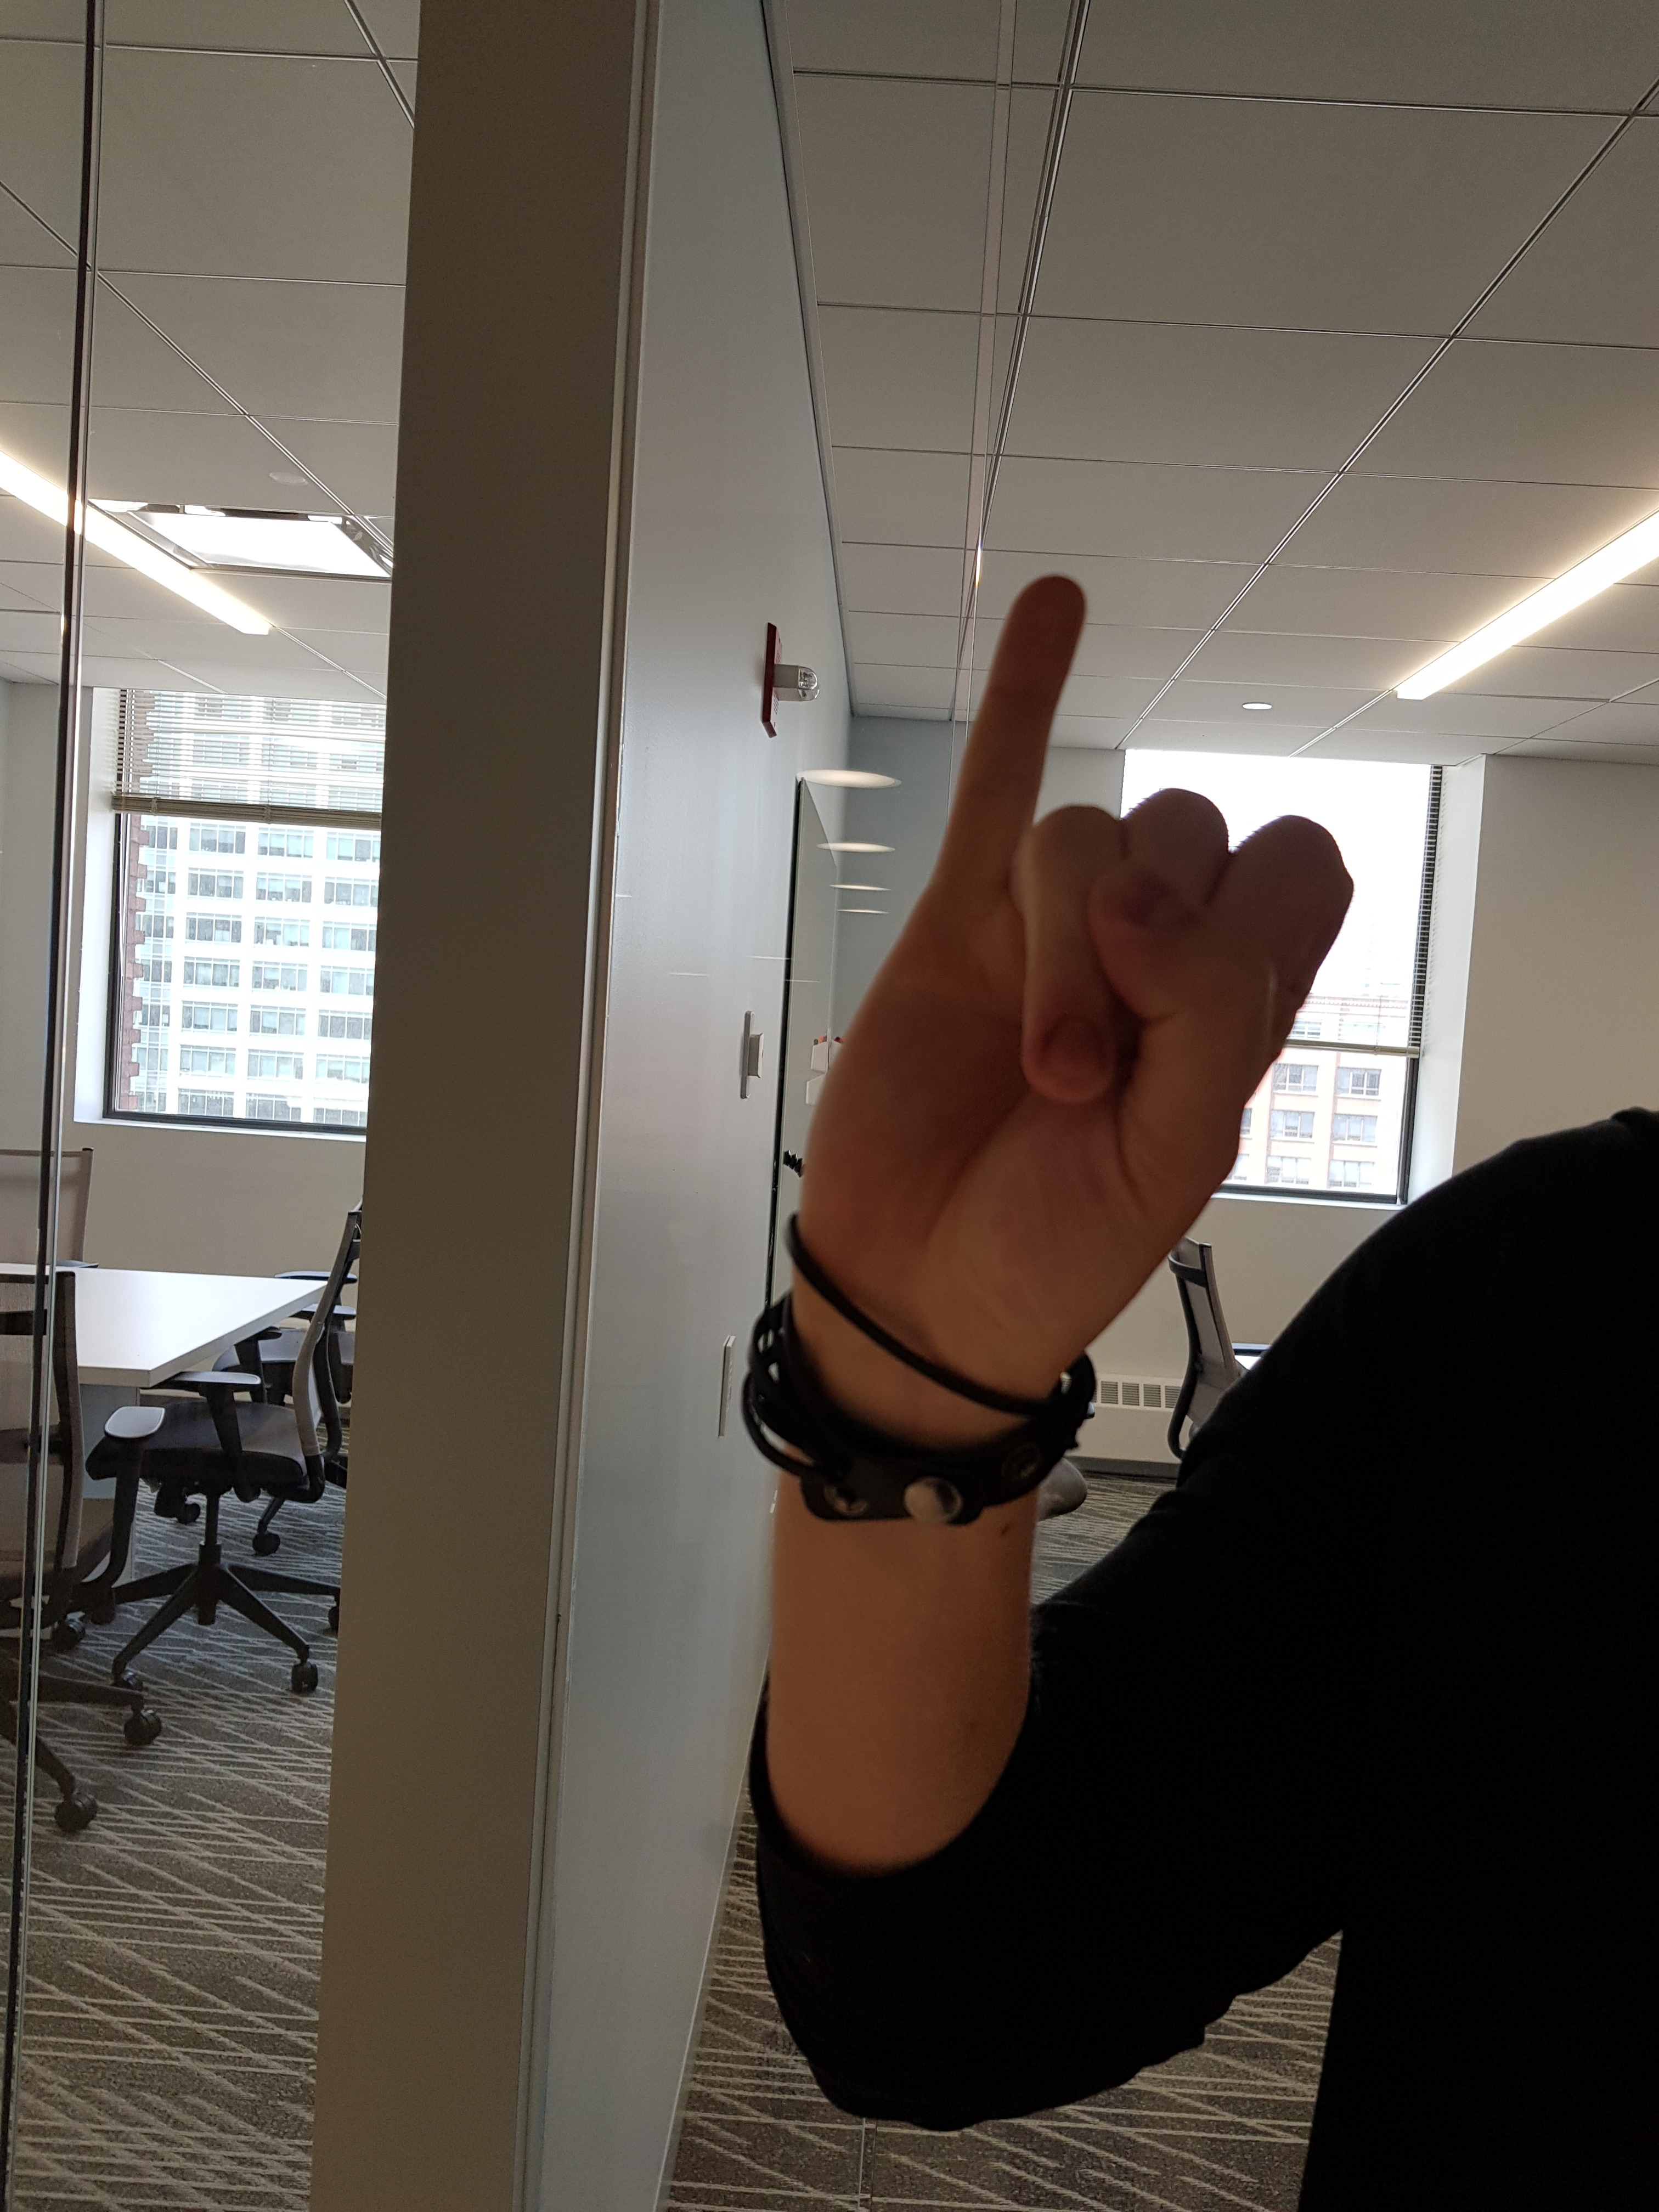i: (742, 536, 1373, 1460)
